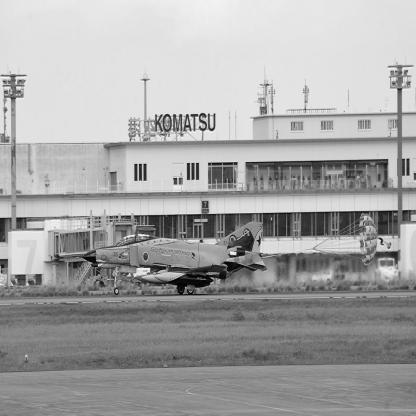F4: (77, 222, 269, 296)
